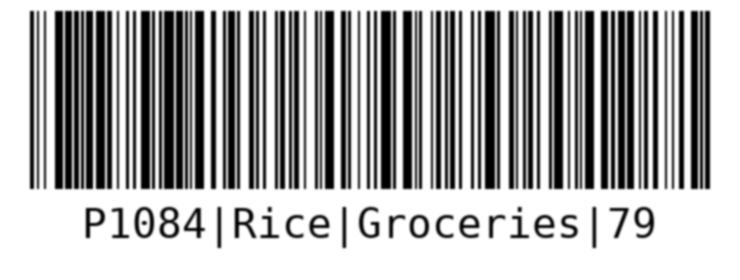milk: (24, 5, 715, 255)
